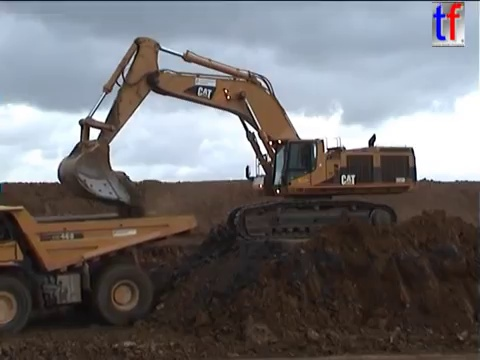excavator: (55, 34, 420, 243)
truck: (1, 202, 200, 338)
